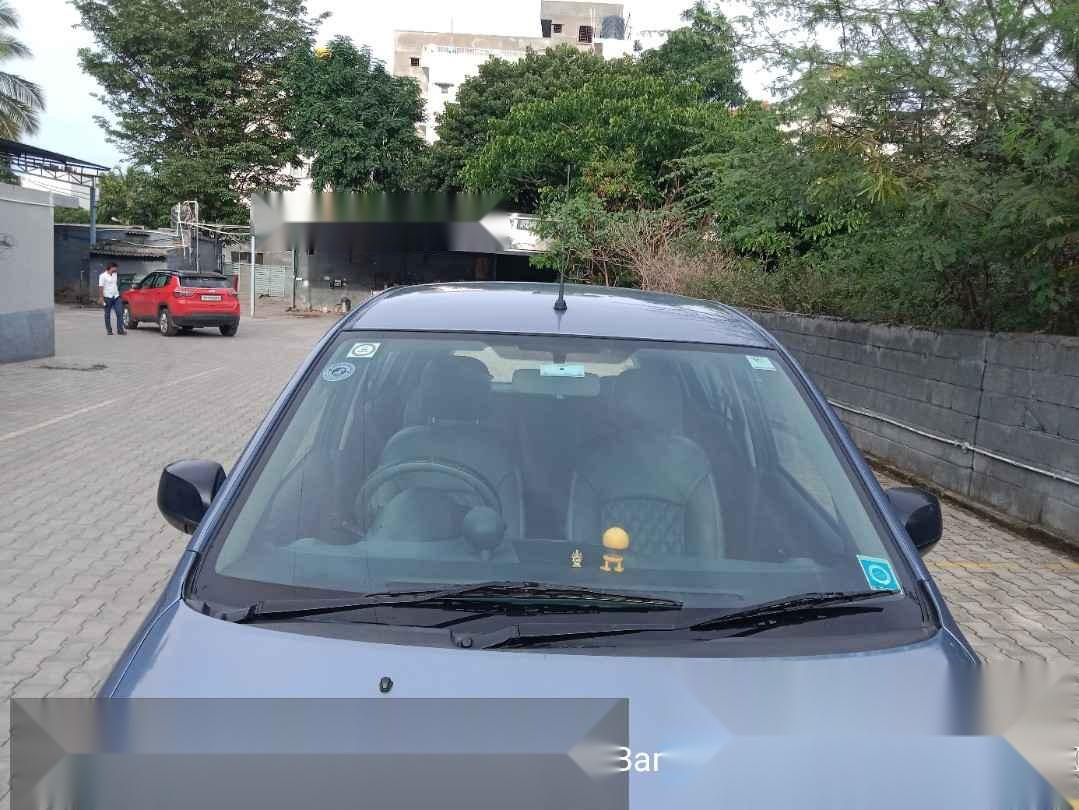FastTag: (519, 346, 610, 397)
not a FastTag: (853, 548, 907, 600), (733, 347, 796, 379), (344, 334, 380, 362)
